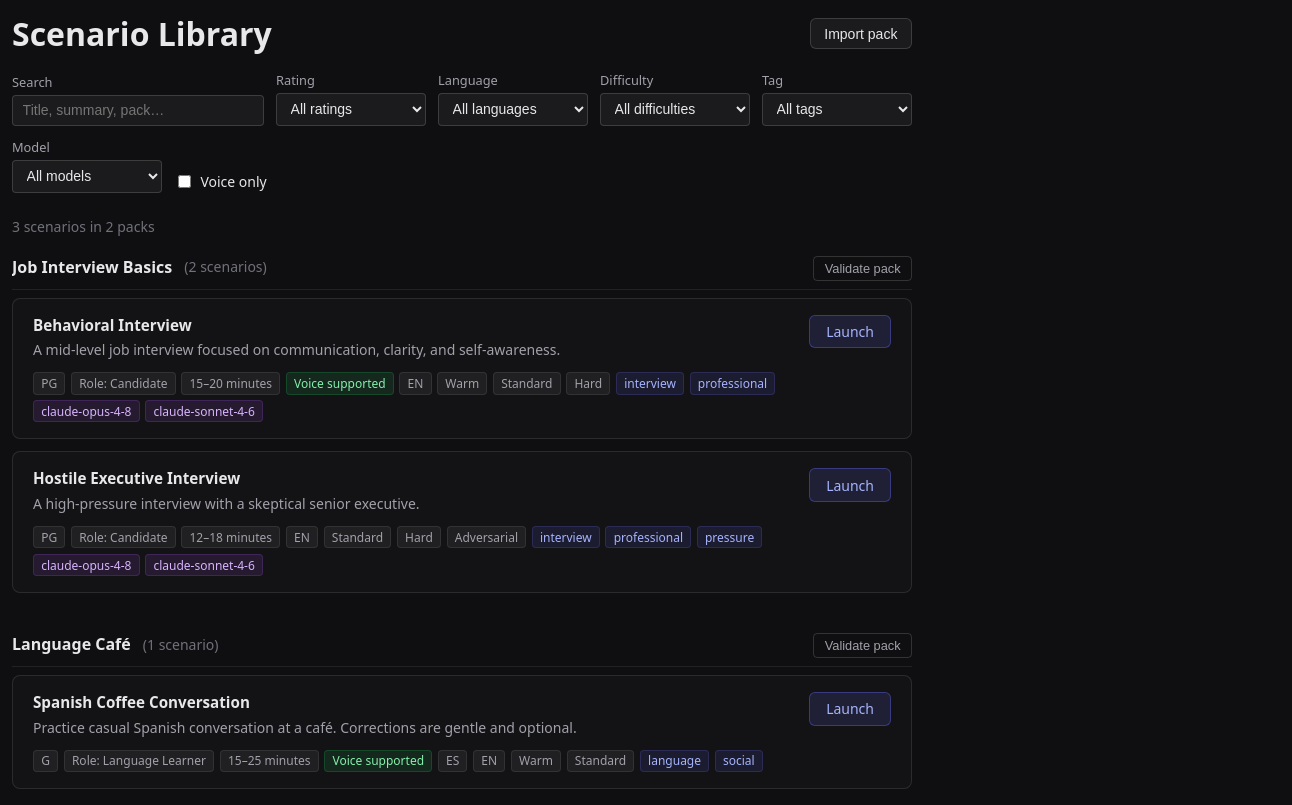
pack validation › shows valid message when pack validation passes
Click the button with test id "validate-official.job_interview_basic". click: (863, 268)
box: [813,256,912,281]
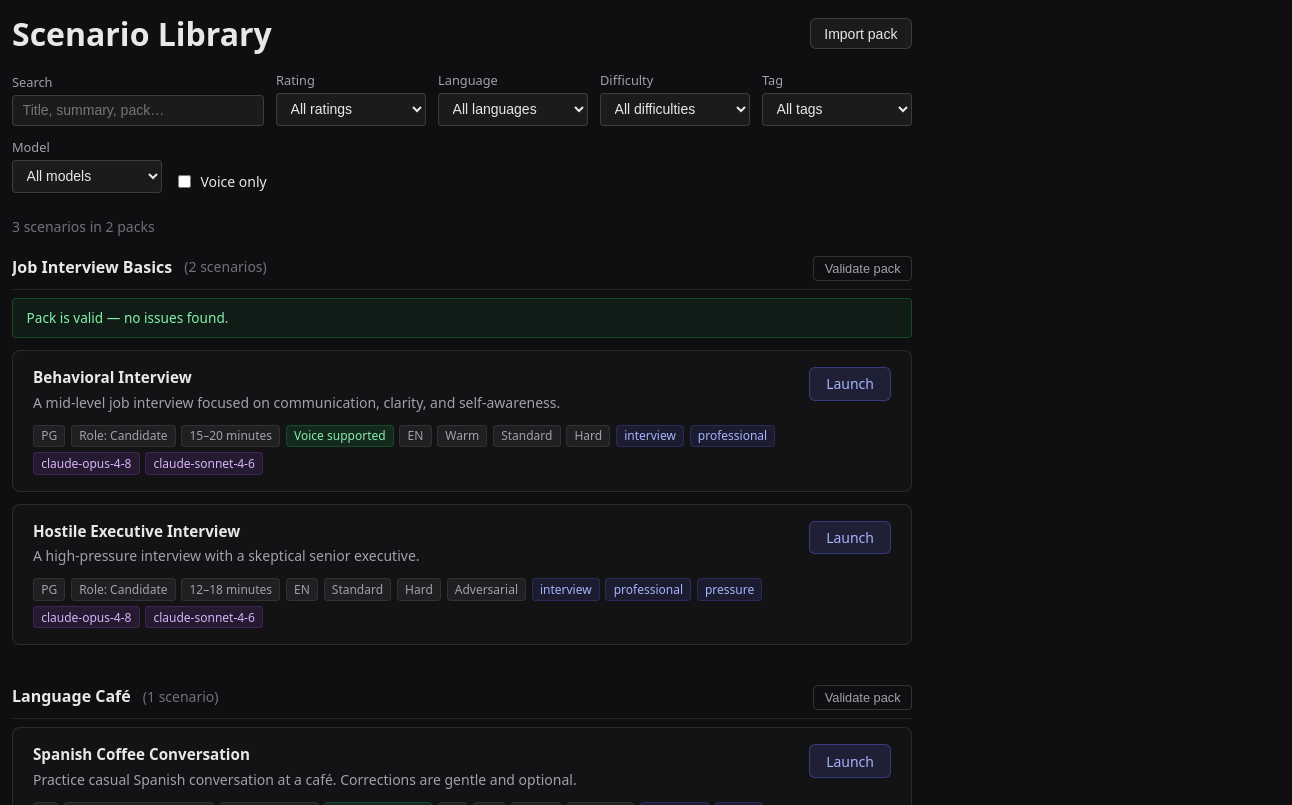
Result: the message with test id "validation-result-official.job_interview_basic" shows "valid — no issues found" at [27,308,228,327]
